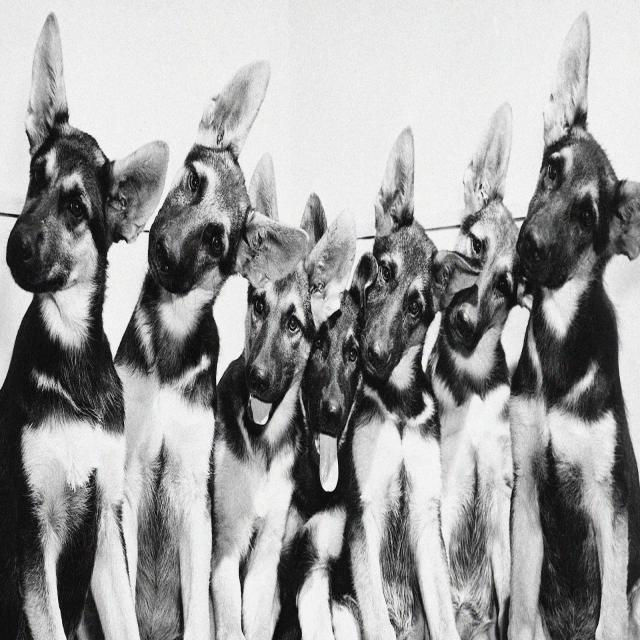Dog: (4, 6, 173, 334), (143, 52, 313, 328), (513, 7, 640, 303), (240, 151, 360, 437), (368, 116, 480, 409), (434, 99, 530, 367), (298, 190, 376, 502)
